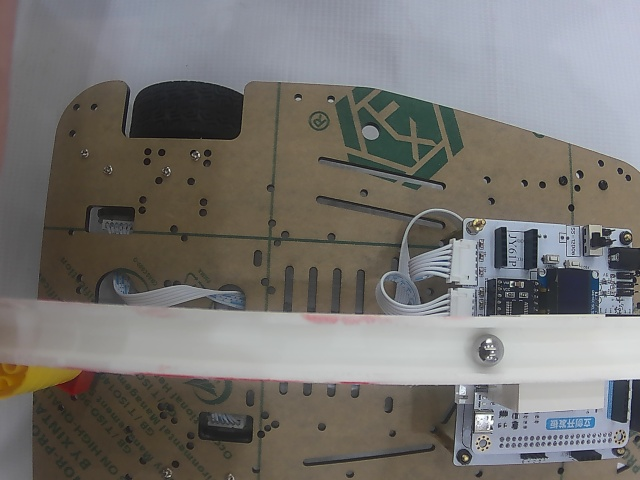steelball: (472, 334, 504, 366)
